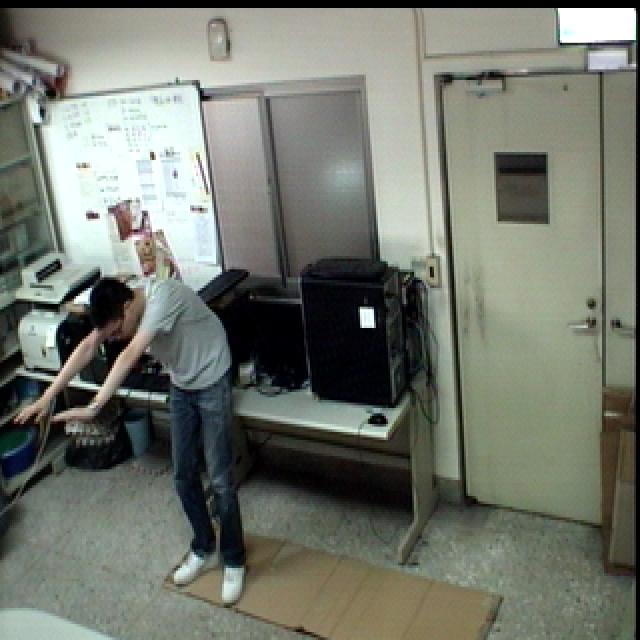bend: (13, 269, 256, 609)
